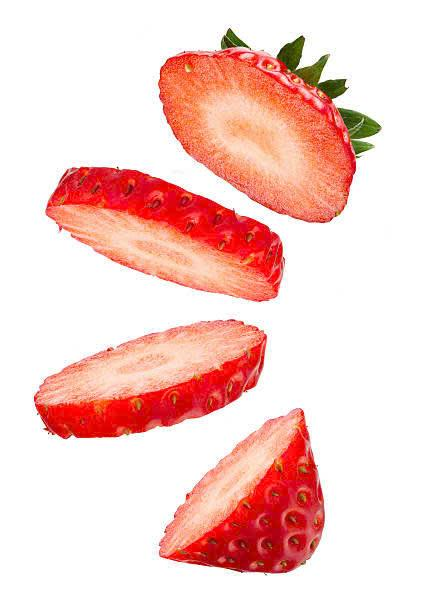strawberry: (63, 423, 356, 577), (147, 30, 391, 206), (23, 179, 292, 311), (23, 314, 291, 417)
